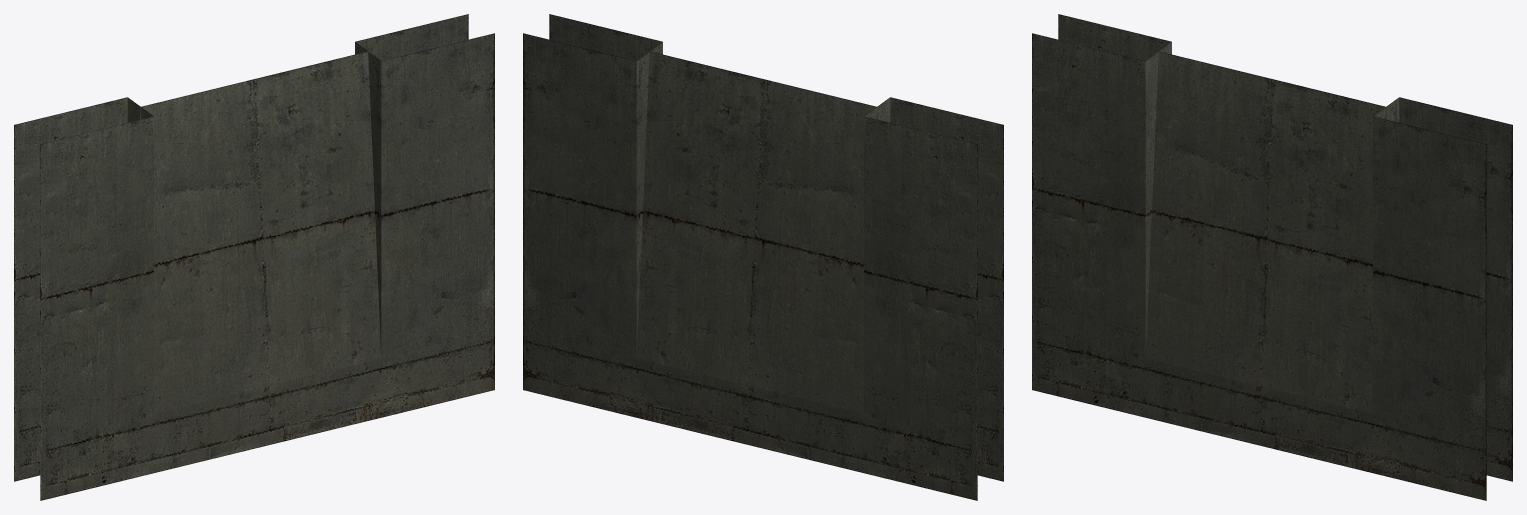
File: wall_rg_1_t_1.glb
The picture shows the model from 3 angles, left to right: view 1: azimuth 30°, elevation 25°; view 2: azimuth 150°, elevation 25°; view 3: azimuth 330°, elevation 25°; orthographic projection.
Visible parts, largest first — view 1: wall_rg_1_t_1; view 2: wall_rg_1_t_1; view 3: wall_rg_1_t_1.
Boxes of the visible parts, x1=… form: wall_rg_1_t_1: x1=14, y1=14, x2=494, y2=500; wall_rg_1_t_1: x1=523, y1=14, x2=1003, y2=500; wall_rg_1_t_1: x1=1032, y1=14, x2=1512, y2=500.
Size of the model in its own units: 4 by 3 by 0.4.
1 material, 1 textured.
